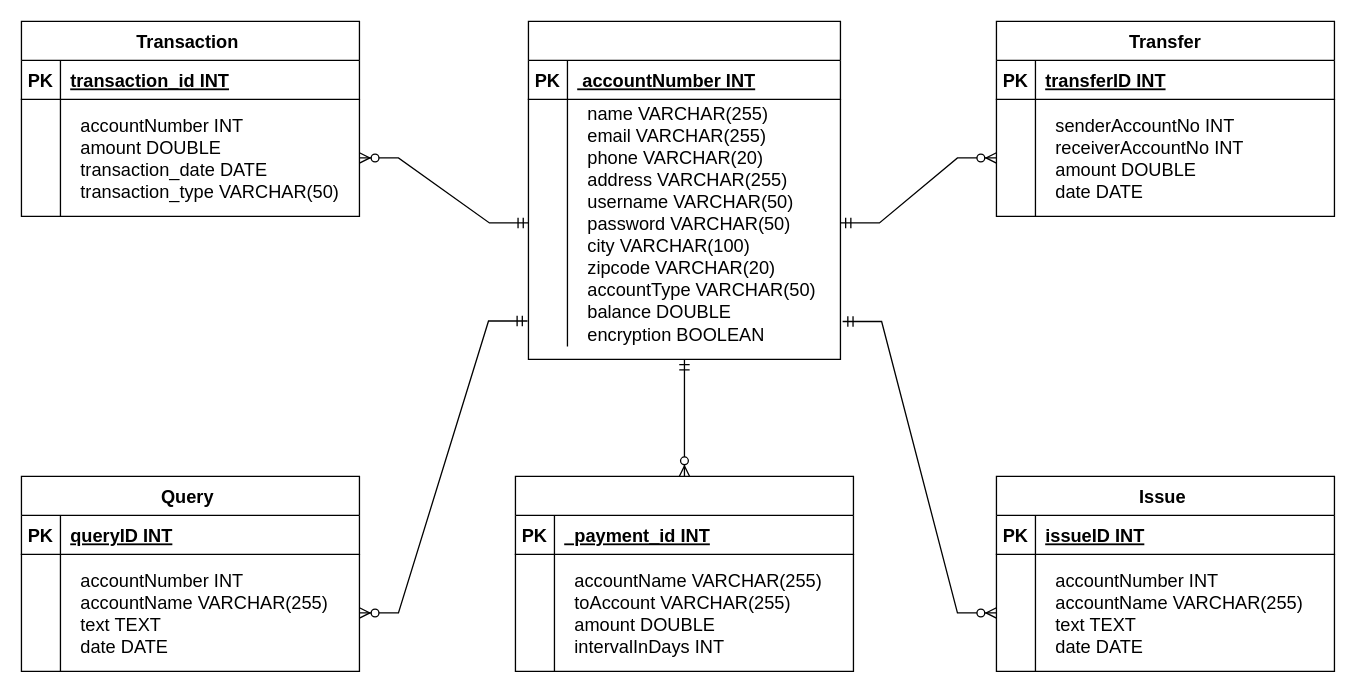
Image size: 1356x693. Some labels were removed from this diagram. Each missing label, with the box of its shape:
BankAccount: (527, 20, 840, 359)
RecurringPayments: (514, 475, 853, 671)
